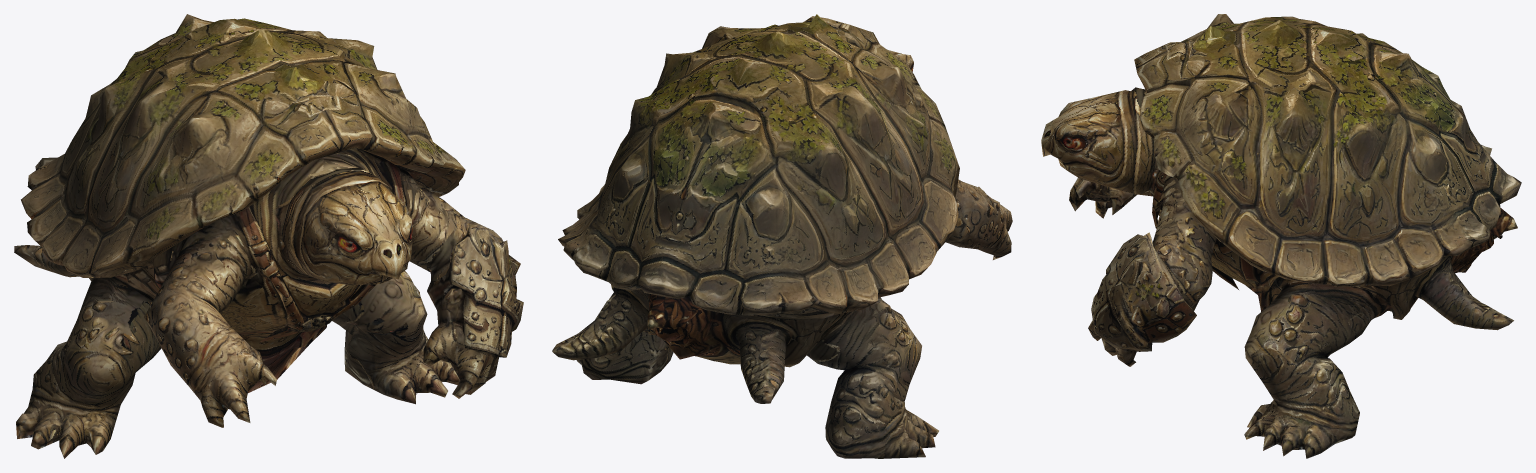
Rendered from Softshell.glb.
3 views of the same model, side by side, from view 1: azimuth 30°, elevation 25°; view 2: azimuth 150°, elevation 25°; view 3: azimuth 270°, elevation 25° (orthographic). The views are drawn at different scales.
Parts seen in each view (by area): view 1: texture_mapping; view 2: texture_mapping; view 3: texture_mapping.
Part boxes in pixels (box(x1,y1,x2,y2)): texture_mapping: box(14, 14, 523, 458); texture_mapping: box(552, 14, 1012, 458); texture_mapping: box(1041, 14, 1521, 458).
Size of the model in its own units: 0.8772 by 0.8073 by 1.
1 material, 1 textured.
